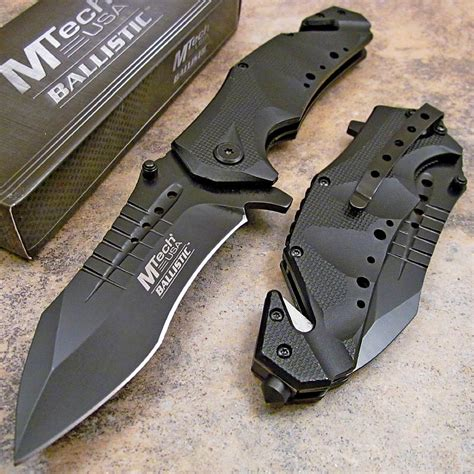knife: (16, 5, 374, 467), (250, 101, 469, 407)
